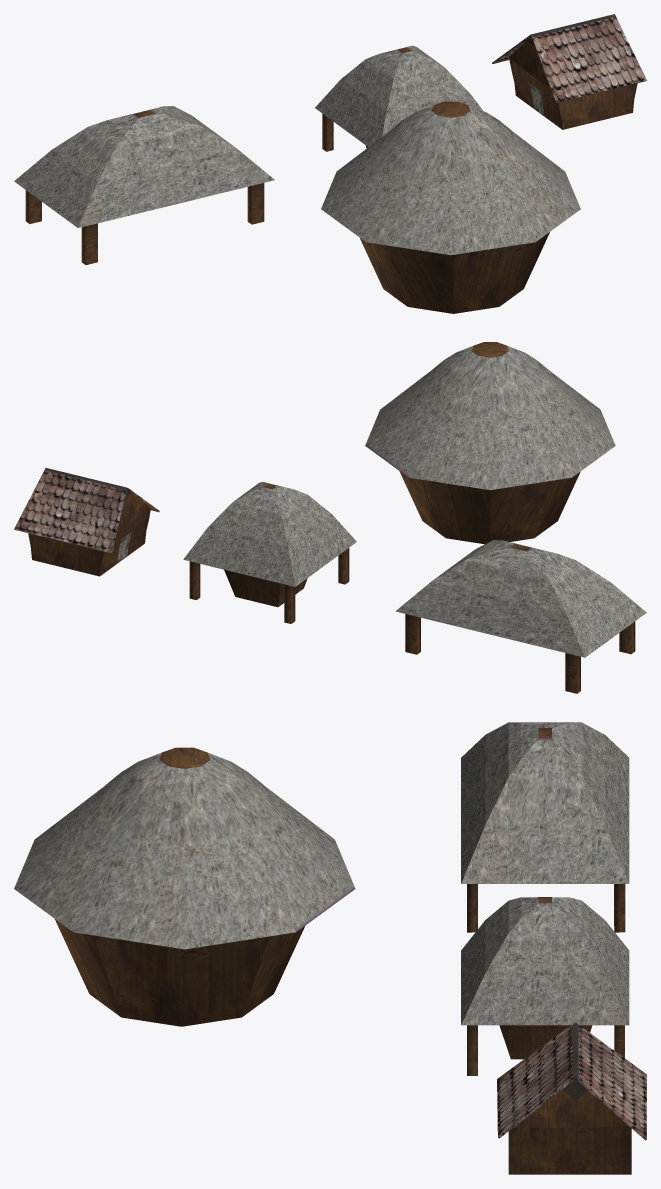
The model's file is Casas Varias.FBX.
3 views of the same model, one above another, from view 1: azimuth 30°, elevation 25°; view 2: azimuth 150°, elevation 25°; view 3: azimuth 270°, elevation 25° (orthographic). The views are drawn at different scales.
Visible parts, largest first — view 1: Cylinder080, Box055, Box052, Box053; view 2: Cylinder080, Box055, Box053, Box052; view 3: Cylinder080, Box055, Box053, Box052.
Part boxes in pixels (x1=…): Cylinder080: x1=321, y1=101, x2=580, y2=313; Box055: x1=14, y1=106, x2=274, y2=264; Box052: x1=492, y1=14, x2=646, y2=129; Box053: x1=315, y1=45, x2=482, y2=151; Cylinder080: x1=365, y1=342, x2=615, y2=544; Box055: x1=395, y1=540, x2=646, y2=693; Box053: x1=183, y1=482, x2=356, y2=623; Box052: x1=14, y1=467, x2=159, y2=576; Cylinder080: x1=14, y1=747, x2=355, y2=1026; Box055: x1=461, y1=722, x2=629, y2=932; Box053: x1=461, y1=897, x2=629, y2=1075; Box052: x1=497, y1=1022, x2=646, y2=1174.
Bounding box in the file's own units: 437 × 124 × 311.
